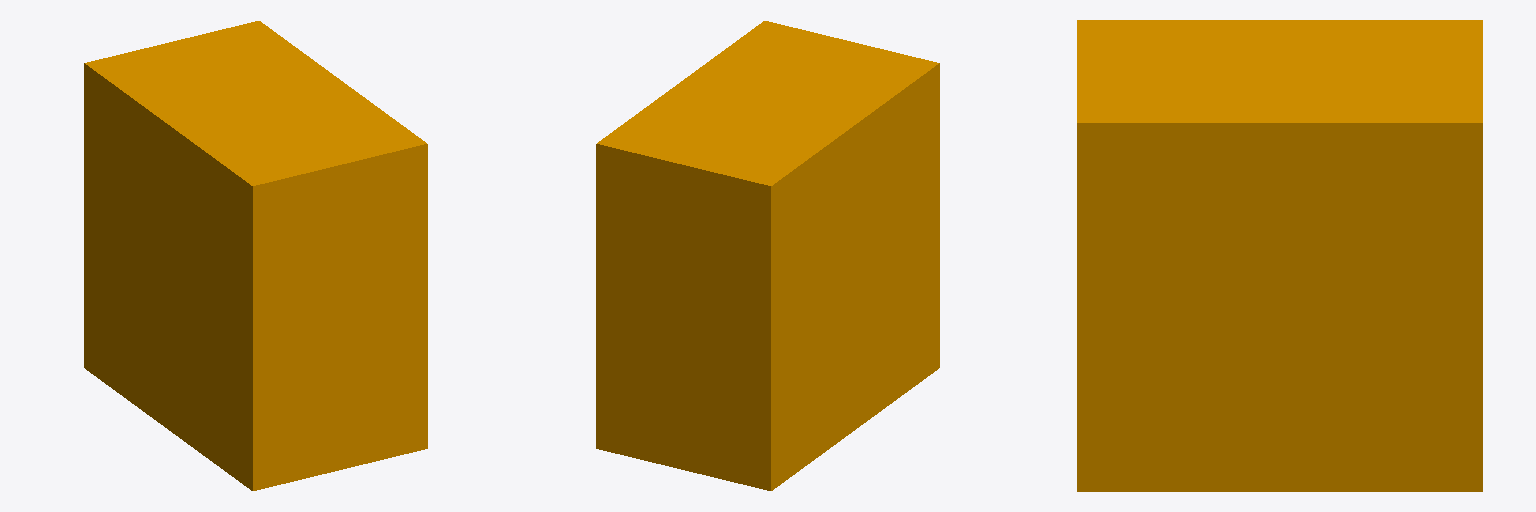
robot.urdf — simple_box:
<robot name="simple_box">
  <link name="my_box">
    <inertial>
      <origin xyz="0 0 0" />
      <mass value="1.0" />
      <inertia  ixx="1.0" ixy="0.0"  ixz="0.0"  iyy="100.0"  iyz="0.0"  izz="1.0" />
    </inertial>
    <visual>
      <origin xyz="0 0 0"/>
      <geometry>
        <box size="0.6 1.0 1.0" />
      </geometry>
    </visual>
    <collision>
      <origin xyz="0 0 0"/>
      <geometry>
        <box size="0.6 1.0 1.0" />
      </geometry>
    </collision>
  </link>
  <gazebo reference="my_box">
    <material>Gazebo/WoodFloor</material>
  </gazebo>
</robot>

--- Render facts (derived) ---
3 views of the same robot in one strip: view 1: azimuth 30°, elevation 25°; view 2: azimuth 150°, elevation 25°; view 3: azimuth 270°, elevation 25° (orthographic).
Robot: simple_box — 1 links, 0 joints (none); root link my_box; default pose: all joints at 0.
Visible links, largest first — view 1: my_box; view 2: my_box; view 3: my_box.
Link boxes in pixels (box(x1,y1,x2,y2)): my_box: box(84, 21, 427, 490); my_box: box(596, 21, 939, 490); my_box: box(1077, 20, 1482, 491).
Size in the robot's own frame: 0.6 by 1 by 1 metres.
Geometry: primitives only (box / cylinder / sphere), no mesh files.
